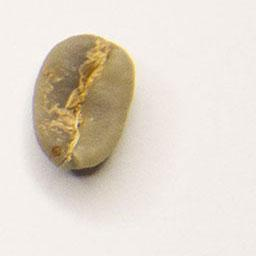premium: (30, 32, 139, 177)
